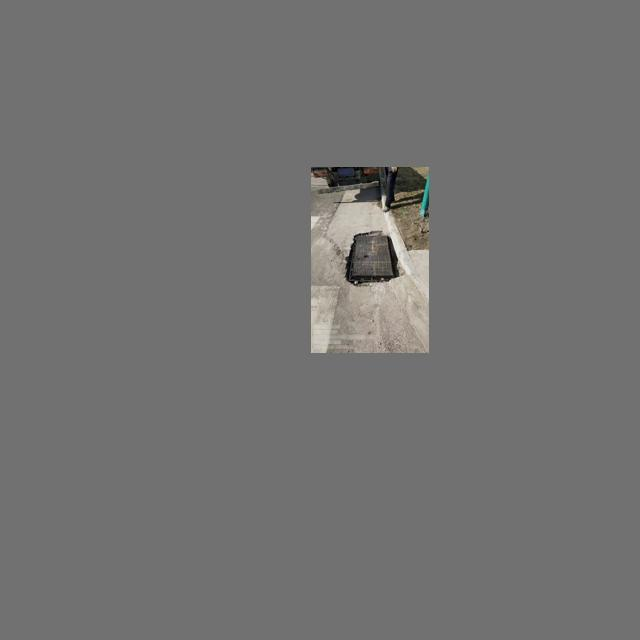circle: (345, 233, 400, 285)
